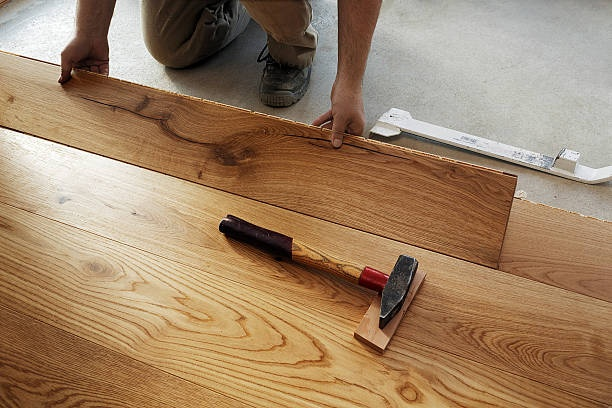hammer: (217, 201, 421, 328)
